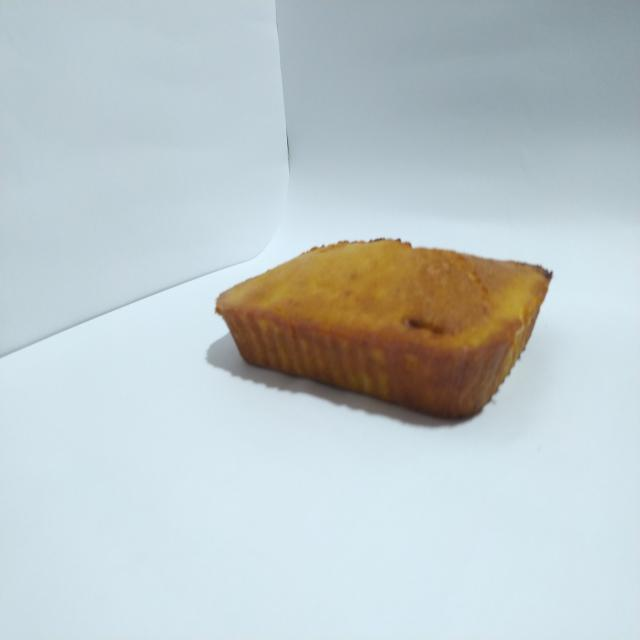Food: (212, 226, 558, 425)
